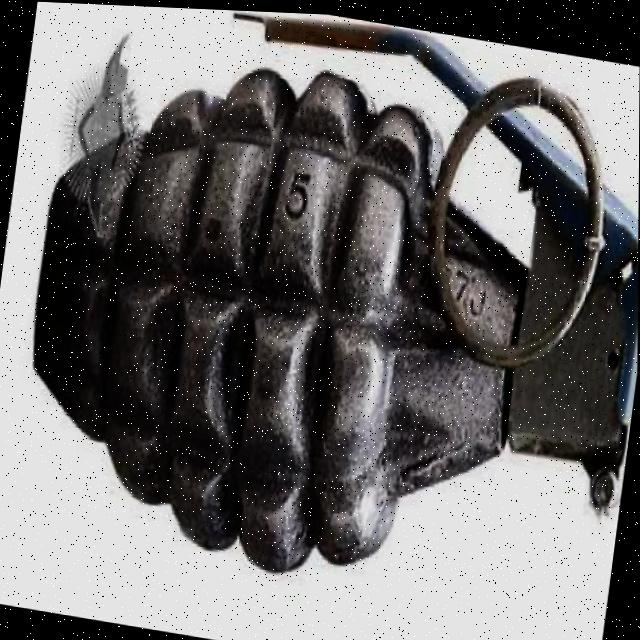grenade: (0, 0, 640, 614)
